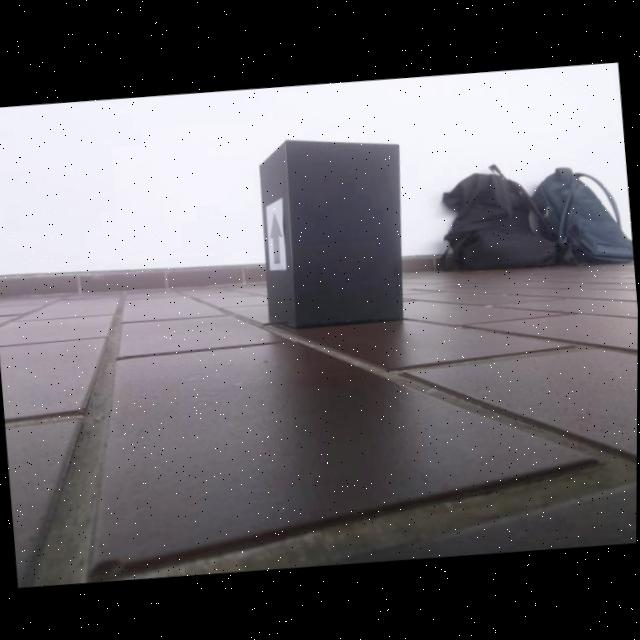UP: (269, 210, 284, 264)
